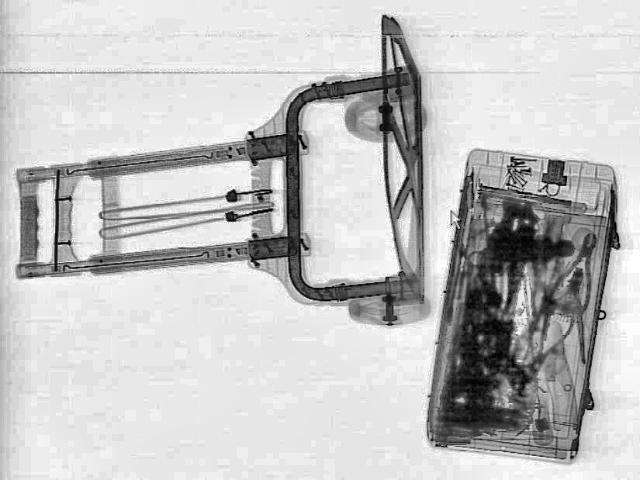Pliers: (540, 227, 614, 317)
